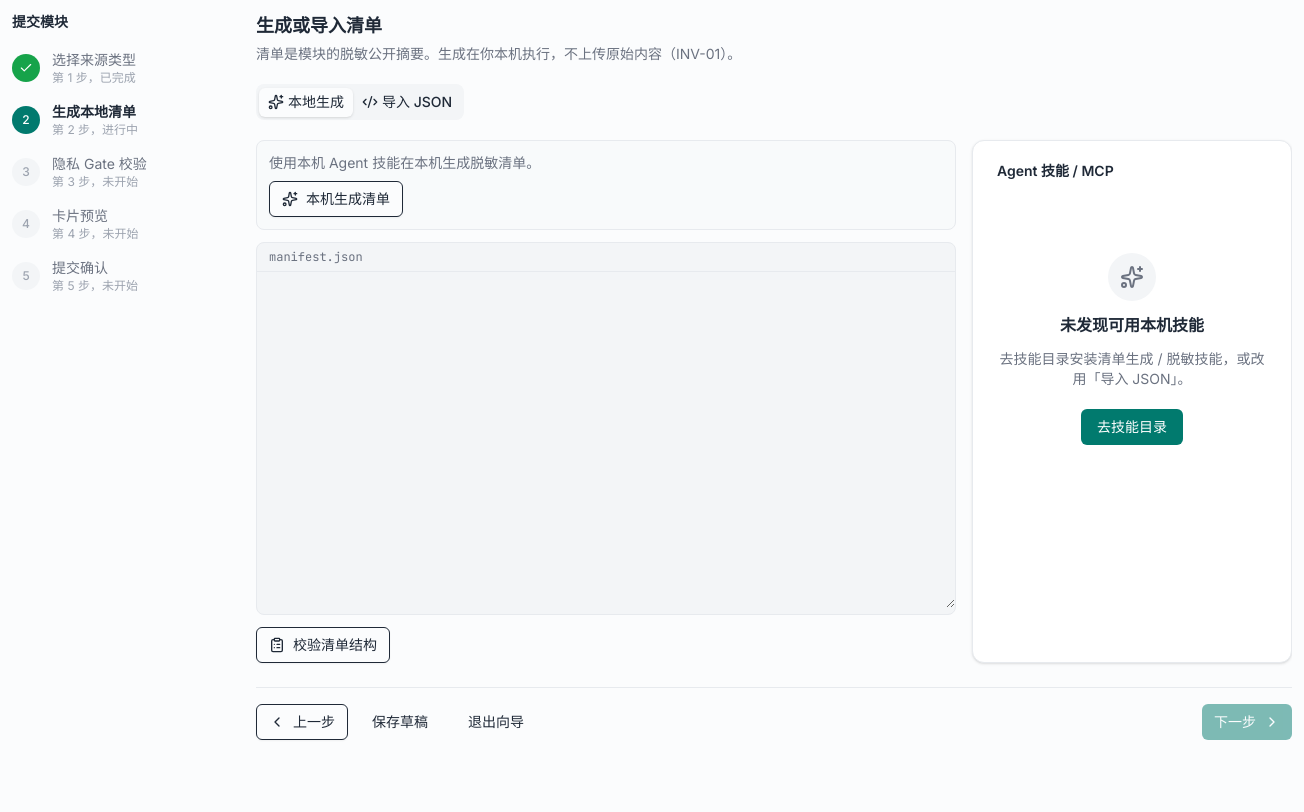
Test: SubmitWizard（PAGE-020~024 集成） › 第 2 步本机生成 → 结构有效，可进入隐私门
Check: the heading "生成或导入清单" is shown, box 256,15 -> 382,36
Click the button "本机生成清单". click: (336, 199)
box: 269,181 -> 403,217
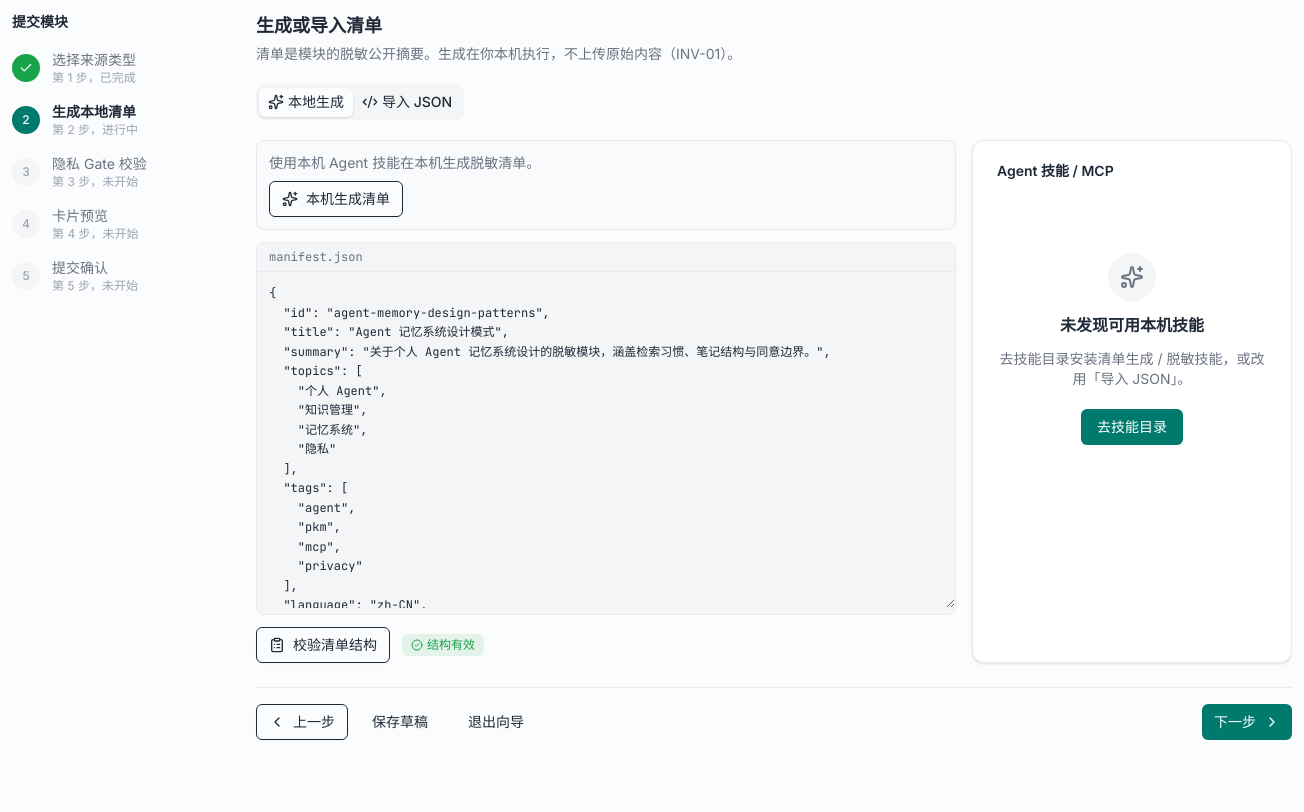
Check: the text "结构有效" is shown, box 427,637 -> 475,653
Check: the button "下一步" is enabled, box 1202,704 -> 1292,740
